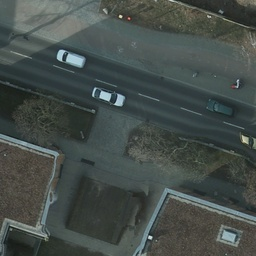car: (55, 47, 87, 70), (90, 86, 125, 107), (204, 96, 235, 119)
